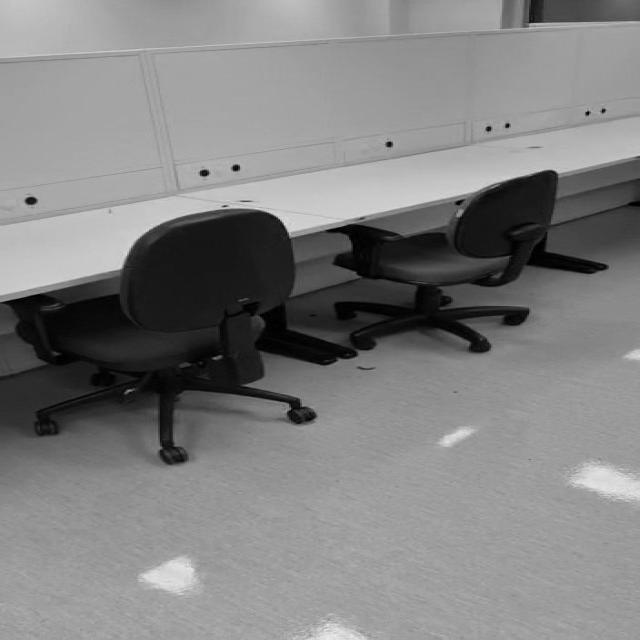chair: (6, 208, 317, 464)
